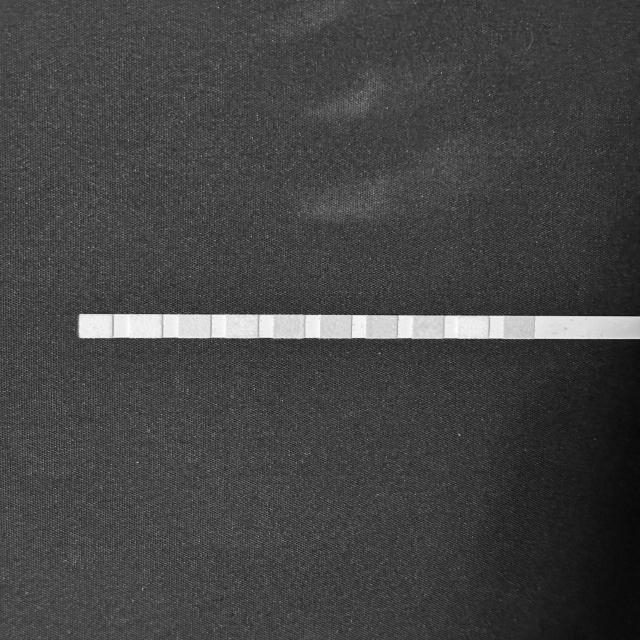Bilirubin: (458, 316, 488, 339)
Blood: (321, 316, 352, 338)
Glucose: (504, 316, 534, 339)
Ketone: (414, 316, 443, 338)
Leukocytes: (80, 314, 112, 338)
Nitrite: (130, 314, 162, 338)
Protein: (227, 314, 258, 338)
SpGravity: (368, 315, 398, 338)
Urobilinogen: (180, 315, 210, 338)
background: (0, 0, 640, 640)
pH: (274, 315, 305, 338)
strip: (79, 314, 640, 339)
